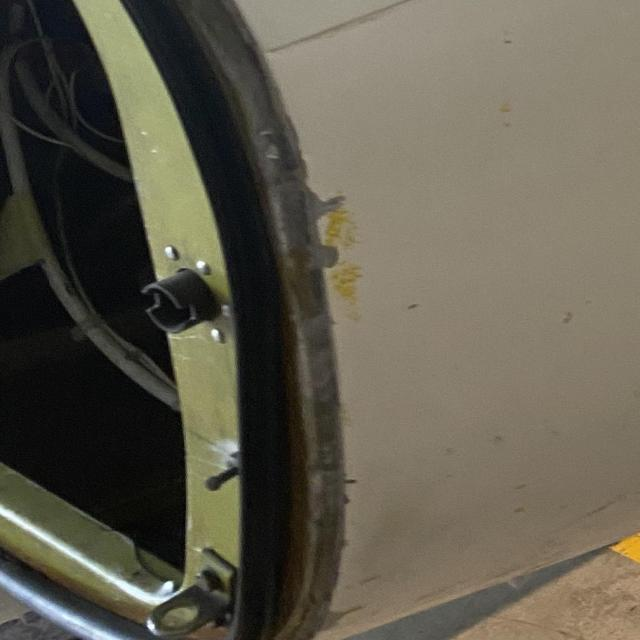Paint-off: (308, 604, 367, 637), (300, 192, 347, 228), (314, 247, 339, 271), (401, 299, 423, 315)
